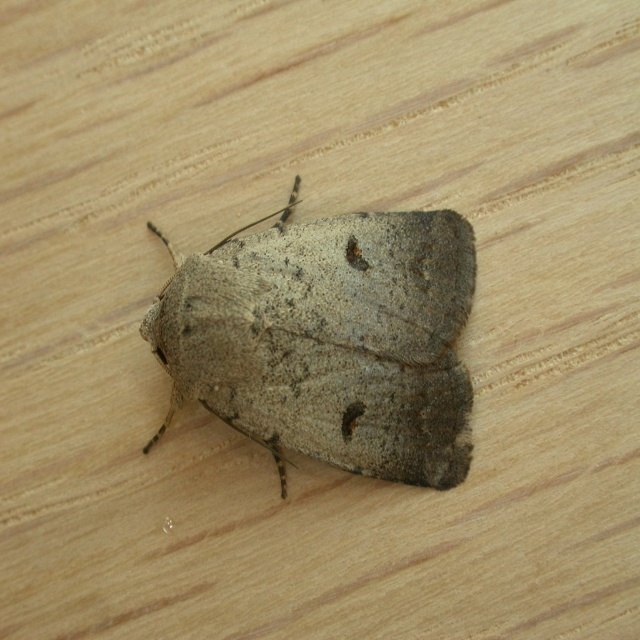Moths and butterflies: (136, 173, 479, 503)
